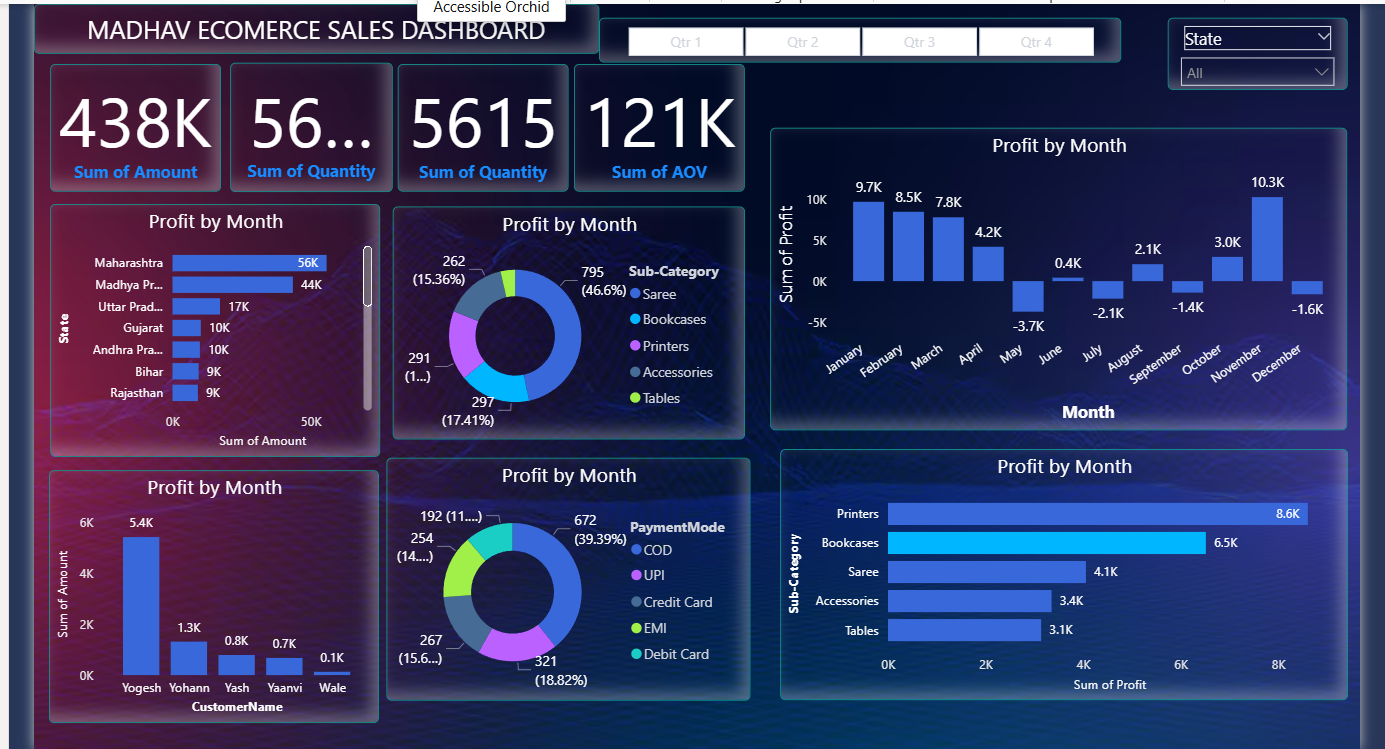

The dashboard page shown, as its layout file describes it:
{"tool":"powerbi","page":{"name":"Page 1","canvas":[1280,720],"ordinal":0},"visuals":[{"type":"textbox","box":[0,0,545.3,48.3],"z":0},{"type":"columnChart","title":"Profit by Month","fields":{"Y":["Sum(Details.Profit)"],"Category":["Orders.Order ID_1.Variation.Date Hierarchy.Month"]},"box":[710.8,119.4,557.1,292.3],"z":1000},{"type":"barChart","title":"Profit by Month","fields":{"Category":["Orders.State"],"Y":["Sum(Details.Amount)"]},"box":[15.1,193.5,318.4,244.3],"z":2000},{"type":"donutChart","title":"Profit by Month","fields":{"Category":["Details.Sub-Category"],"Y":["Sum(Details.Quantity)"]},"box":[345.8,194.9,340.3,225],"z":3000},{"type":"donutChart","title":"Profit by Month","fields":{"Category":["Details.PaymentMode"],"Y":["Sum(Details.Quantity)"]},"box":[340.3,437.7,351.3,234.6],"z":4000},{"type":"card","fields":{"Values":["Sum(Details.Amount)"]},"box":[15.1,57.6,164.7,123.5],"z":5000},{"type":"card","fields":{"Values":["Sum(Details.Quantity)"]},"box":[189.4,56.3,156.4,124.9],"z":6000},{"type":"card","fields":{"Values":["Sum(Details.Quantity)"]},"box":[351.3,57.6,164.7,123.5],"z":7000},{"type":"card","fields":{"Values":["Sum(Details.AOV)"]},"box":[521.4,57.6,164.7,123.5],"z":8000},{"type":"barChart","title":"Profit by Month","fields":{"Category":["Details.Sub-Category"],"Y":["Sum(Details.Profit)"]},"box":[720.2,429.5,547.7,242.5],"z":9000},{"type":"columnChart","title":"Profit by Month","fields":{"Category":["Orders.CustomerName"],"Y":["Sum(Details.Amount)"]},"box":[14.5,450,318.5,243.7],"z":10000},{"type":"slicer","fields":{"Values":["Orders.Order ID_1.Variation.Date Hierarchy.Quarter"]},"box":[545.3,13.3,504.3,43.4],"z":11000},{"type":"slicer","fields":{"Values":["Orders.State"]},"box":[1094.2,13.3,173.7,70],"z":12000}]}

Visuals, with their boxes on the page's 1280x720 design canvas (x1, y1, x2, y2). These are canvas units, not pixel positions in the 1385x749 screenshot, which may show the page scaled, cropped or inside an application window:
textbox: pyautogui.locateOnScreen(0, 0, 545, 48)
"Profit by Month" columnChart: pyautogui.locateOnScreen(711, 119, 1268, 412)
"Profit by Month" barChart: pyautogui.locateOnScreen(15, 194, 334, 438)
"Profit by Month" donutChart: pyautogui.locateOnScreen(346, 195, 686, 420)
"Profit by Month" donutChart: pyautogui.locateOnScreen(340, 438, 692, 672)
card - Sum(Details.Amount): pyautogui.locateOnScreen(15, 58, 180, 181)
card - Sum(Details.Quantity): pyautogui.locateOnScreen(189, 56, 346, 181)
card - Sum(Details.Quantity): pyautogui.locateOnScreen(351, 58, 516, 181)
card - Sum(Details.AOV): pyautogui.locateOnScreen(521, 58, 686, 181)
"Profit by Month" barChart: pyautogui.locateOnScreen(720, 430, 1268, 672)
"Profit by Month" columnChart: pyautogui.locateOnScreen(14, 450, 333, 694)
slicer - Orders.Order ID_1.Variation.Date Hierarchy.Quarter: pyautogui.locateOnScreen(545, 13, 1050, 57)
slicer - Orders.State: pyautogui.locateOnScreen(1094, 13, 1268, 83)
